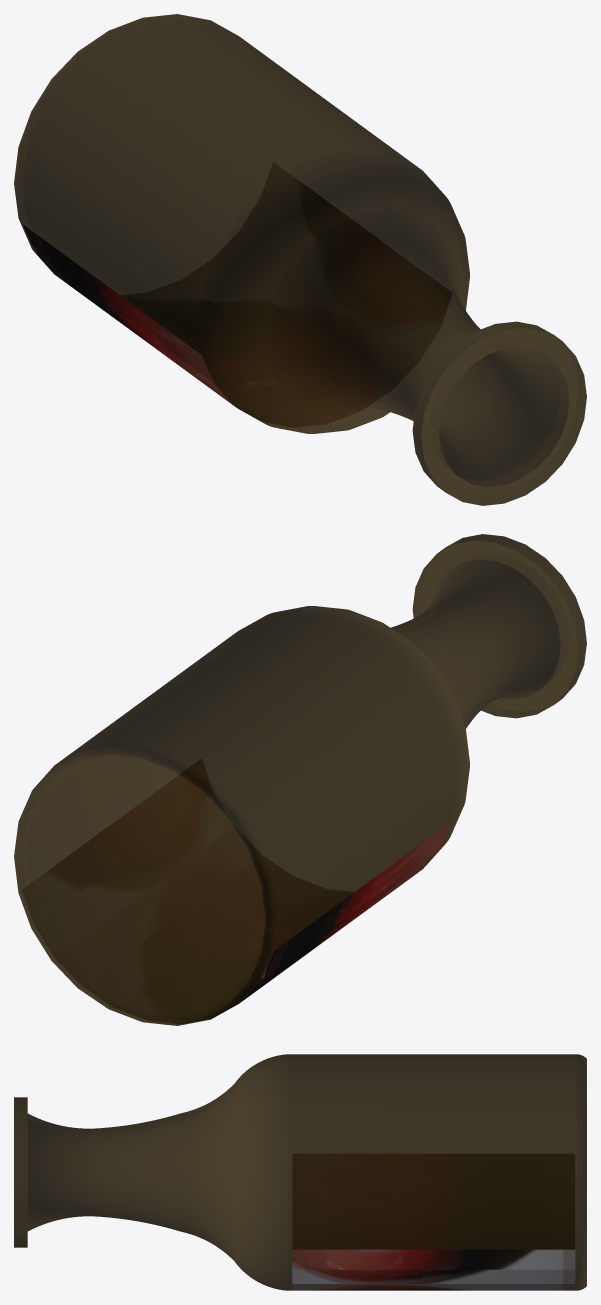
Rendered from model_align.obj.
The picture shows the model from 3 angles, top to bottom: view 1: azimuth 30°, elevation 25°; view 2: azimuth 150°, elevation 25°; view 3: azimuth 270°, elevation 25°; orthographic projection. The views are drawn at different scales.
Visible parts, largest first — view 1: mesh1_mesh1-geometry, mesh2_mesh2-geometry; view 2: mesh1_mesh1-geometry, mesh2_mesh2-geometry; view 3: mesh1_mesh1-geometry, mesh2_mesh2-geometry.
Boxes of the visible parts, bbox=[...] form: mesh1_mesh1-geometry: bbox=[14, 14, 586, 505]; mesh2_mesh2-geometry: bbox=[22, 224, 234, 406]; mesh1_mesh1-geometry: bbox=[14, 534, 586, 1025]; mesh2_mesh2-geometry: bbox=[240, 820, 452, 1002]; mesh1_mesh1-geometry: bbox=[14, 1054, 586, 1290]; mesh2_mesh2-geometry: bbox=[292, 1249, 575, 1290].
Bounding box in the file's own units: 0.06 × 0.06 × 0.1447.
